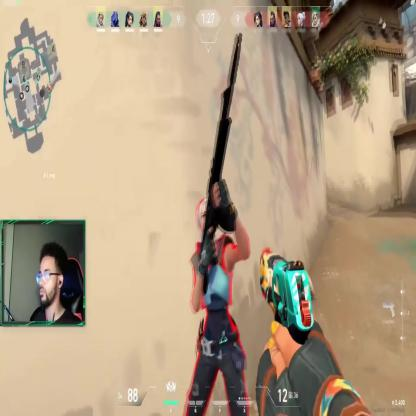enemy: (186, 199, 253, 416)
enemy_head: (196, 201, 216, 242)
